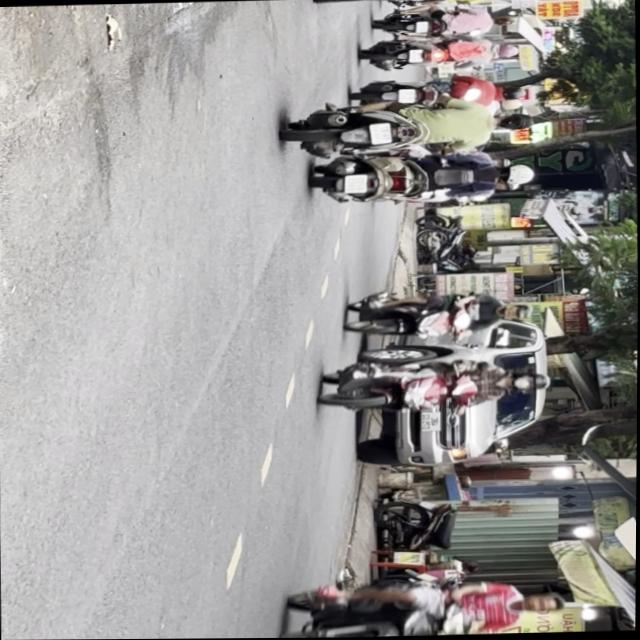helmet: (500, 164, 537, 190), (511, 372, 553, 394), (504, 303, 534, 321)
licenseplate: (274, 569, 568, 638), (283, 97, 536, 157), (309, 144, 539, 209), (317, 354, 554, 417), (340, 287, 536, 344)
motorcyclist: (521, 593, 568, 616), (494, 113, 531, 132)
nohelmet: (370, 123, 392, 144), (345, 175, 367, 193)
